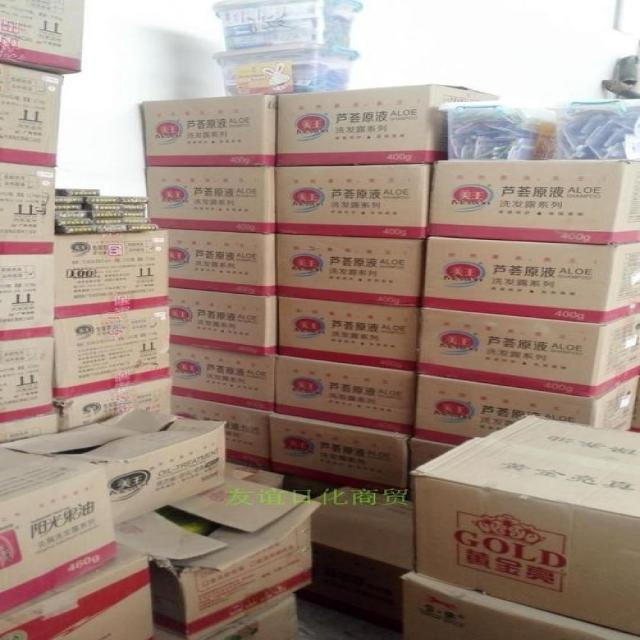Carton: (51, 163, 425, 493), (410, 477, 639, 639), (141, 86, 433, 164), (419, 417, 639, 515), (0, 445, 116, 623), (419, 310, 637, 396), (425, 239, 634, 322), (430, 161, 636, 239), (141, 166, 268, 229)
